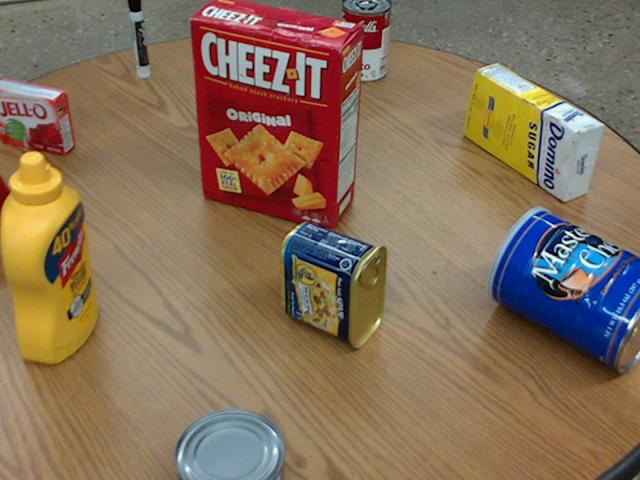cracker_box: (191, 0, 364, 226)
gelatin_box: (0, 78, 78, 154)
large_marker: (129, 0, 151, 76)
master_chef_can: (485, 206, 639, 371)
mug: (0, 169, 19, 237)
mustard_bottle: (2, 151, 99, 362)
potted_meat_can: (279, 221, 387, 348)
sugar_box: (464, 63, 606, 201)
tomato_soup_can: (341, 0, 392, 80)
tuna_fish_can: (173, 408, 283, 479)
